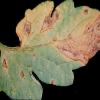Potato leaf early blight: (1, 0, 100, 97)
